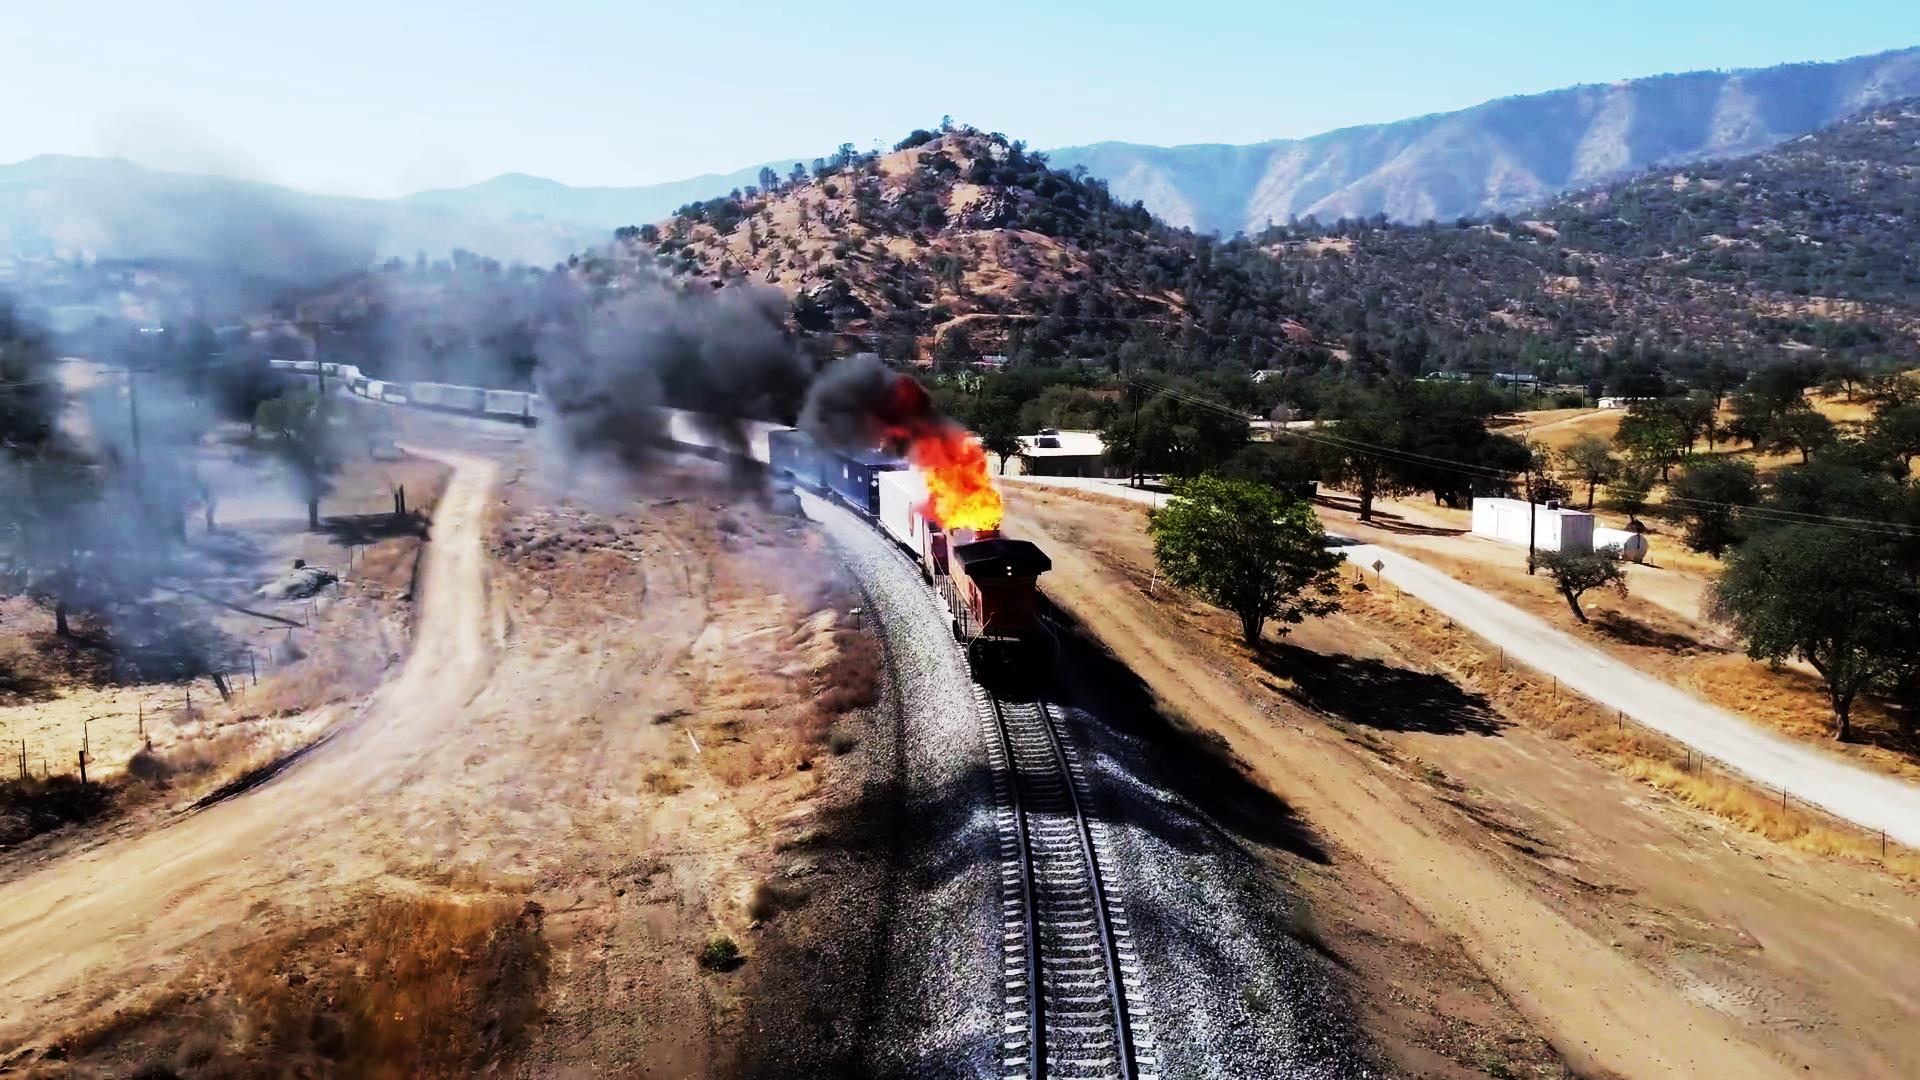fire: (913, 429, 1005, 525)
smoke: (575, 268, 818, 433), (814, 360, 924, 448)
